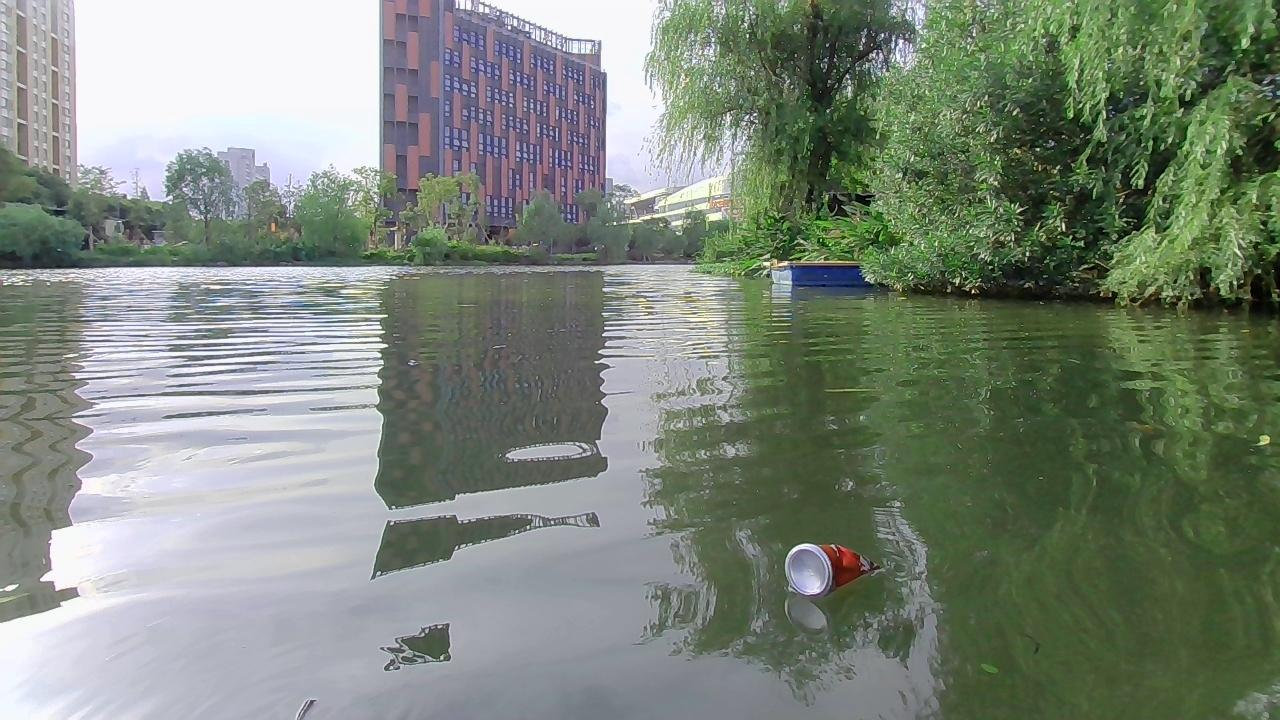Metal: (783, 541, 884, 600)
